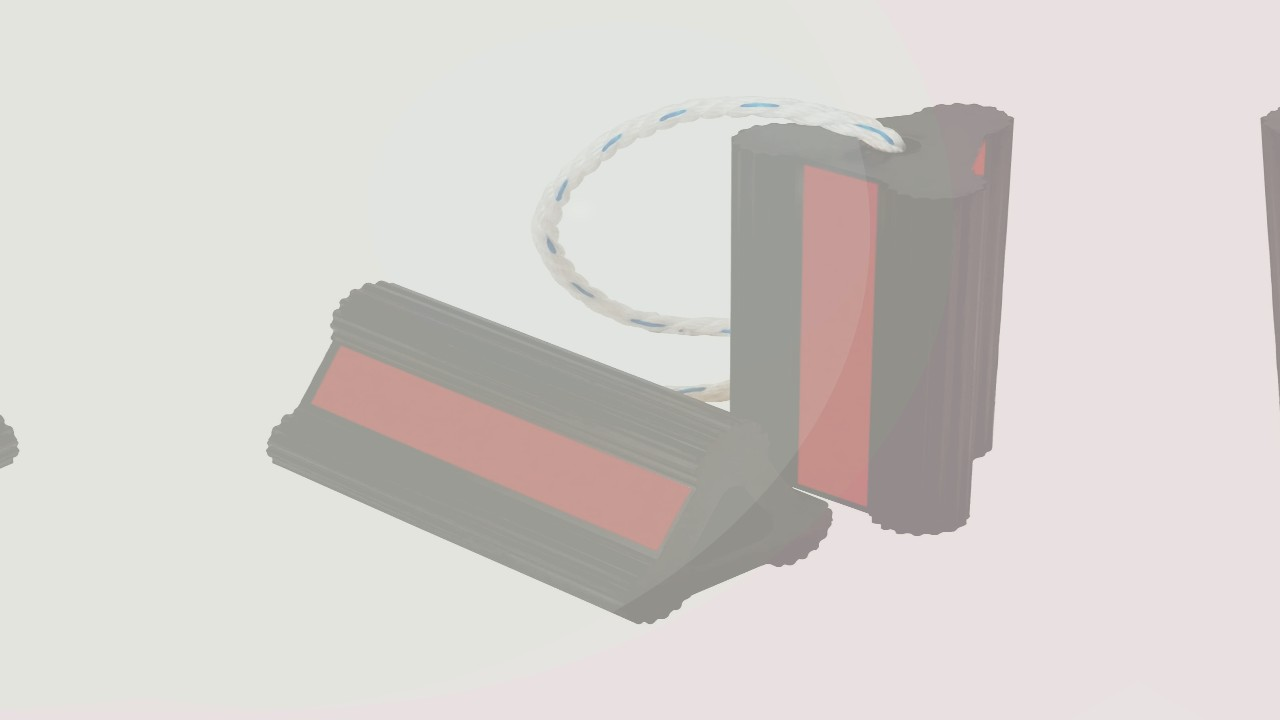chock: (264, 274, 831, 628), (726, 97, 1029, 536), (1246, 97, 1280, 536)
